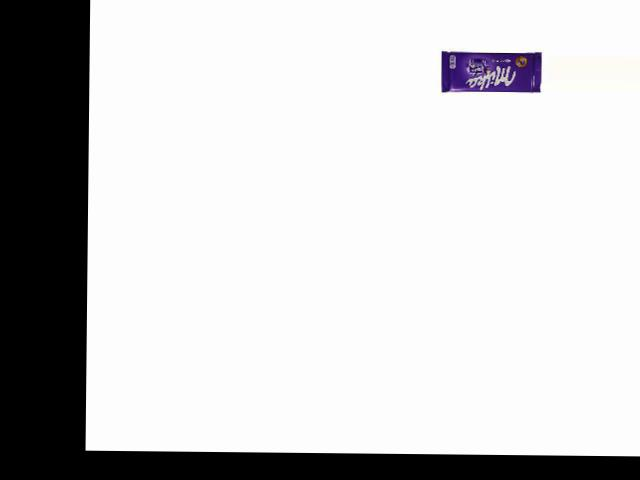chocolate: (435, 46, 542, 95)
